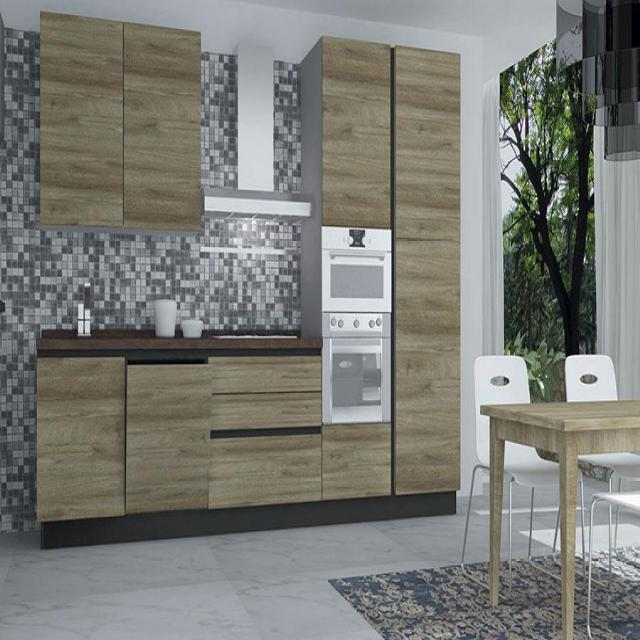dishwasher: (123, 347, 215, 517)
